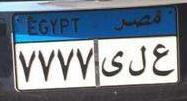7: (56, 47, 75, 84), (75, 47, 94, 83), (38, 47, 56, 84), (18, 46, 36, 82)
ain: (150, 42, 176, 80)
laam: (127, 45, 147, 77)
yaa: (99, 49, 125, 80)
